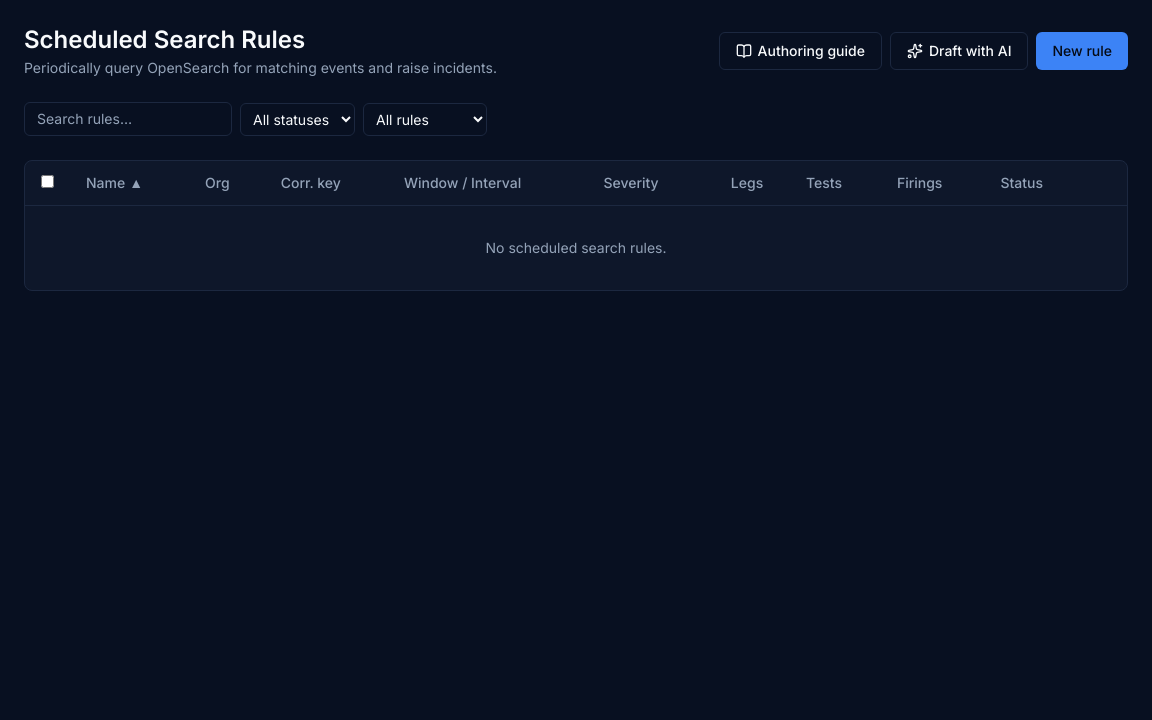
Test: SearchRulesAdmin — Absence Firing (count operator) › reveals the absence hint once the ≤ operator is selected
Click the button "New rule": coordinates (1082, 51) 1036,32 -> 1128,70
(page scrolled)
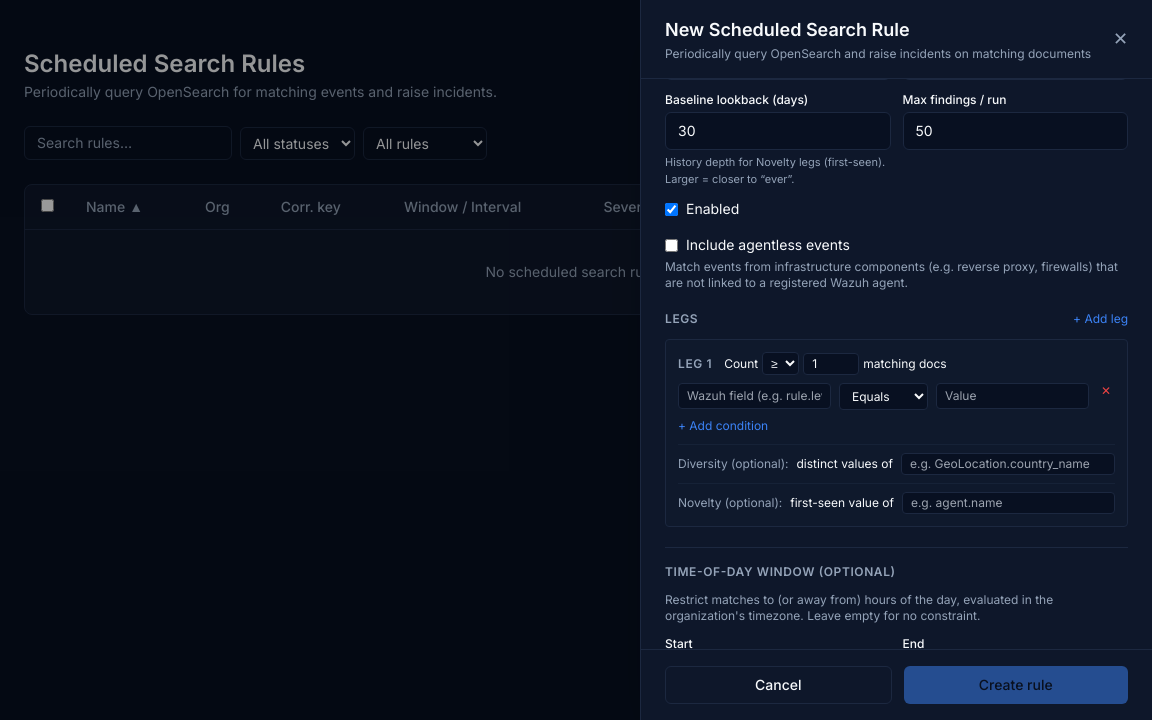
Expected: the text "Absence firing" is not shown
Expected: the dropdown named "Leg 1 count operator" is shown
Select "≤" in the dropdown named "Leg 1 count operator": coordinates (781, 364) 762,352 -> 799,375
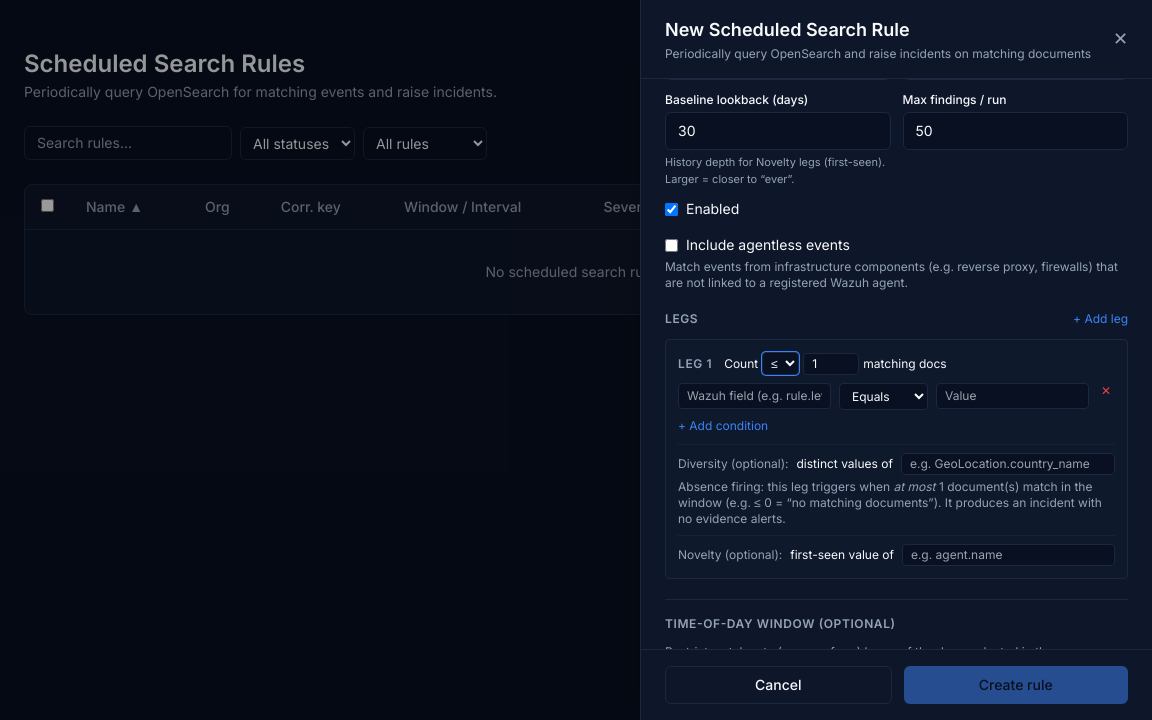
Expected: the text "Absence firing" is shown, 678,479 -> 894,494
